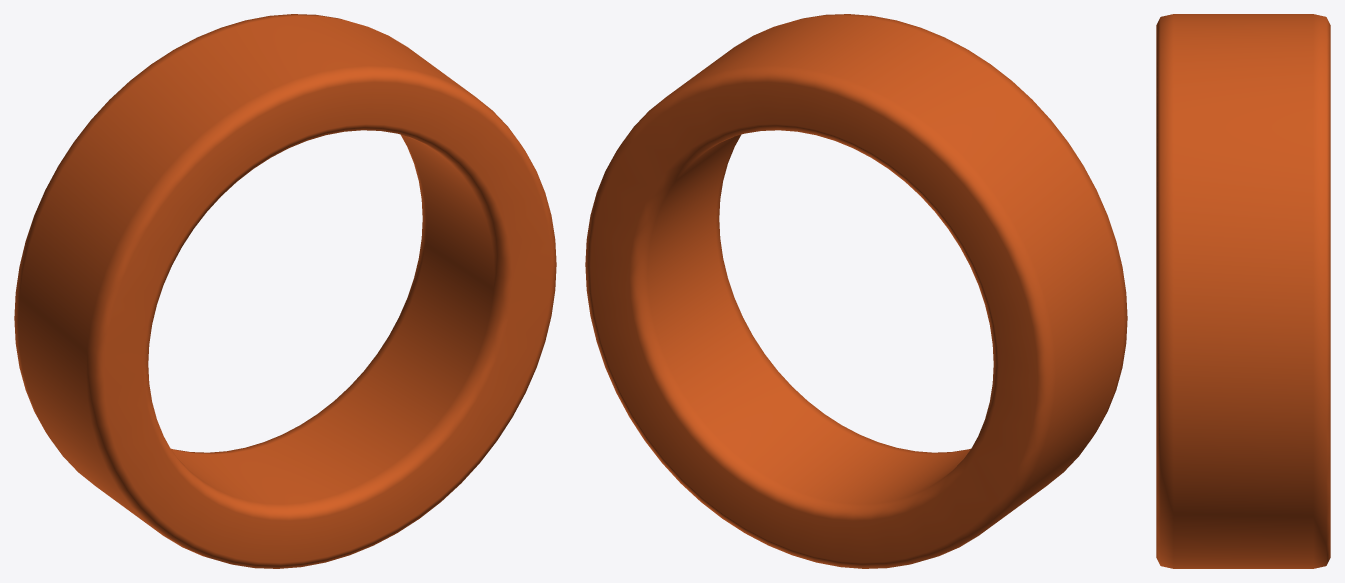
File: WindowRound.obj
3 views of the same model, side by side, from view 1: azimuth 30°, elevation 25°; view 2: azimuth 150°, elevation 25°; view 3: azimuth 270°, elevation 25° (orthographic). The views are drawn at different scales.
Parts seen in each view (by area): view 1: RoundWindowFrame1 WindowRound1 HouseBase1; view 2: RoundWindowFrame1 WindowRound1 HouseBase1; view 3: RoundWindowFrame1 WindowRound1 HouseBase1.
Boxes of the visible parts, <box> form: RoundWindowFrame1 WindowRound1 HouseBase1: <box>14,14,556,568</box>; RoundWindowFrame1 WindowRound1 HouseBase1: <box>585,14,1127,568</box>; RoundWindowFrame1 WindowRound1 HouseBase1: <box>1156,14,1330,568</box>.
Size of the model in its own units: 3.81 by 3.81 by 1.2.
